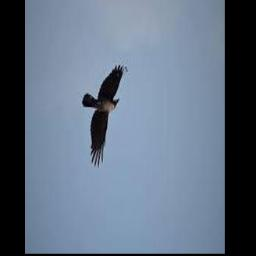Crow: (82, 65, 123, 168)
